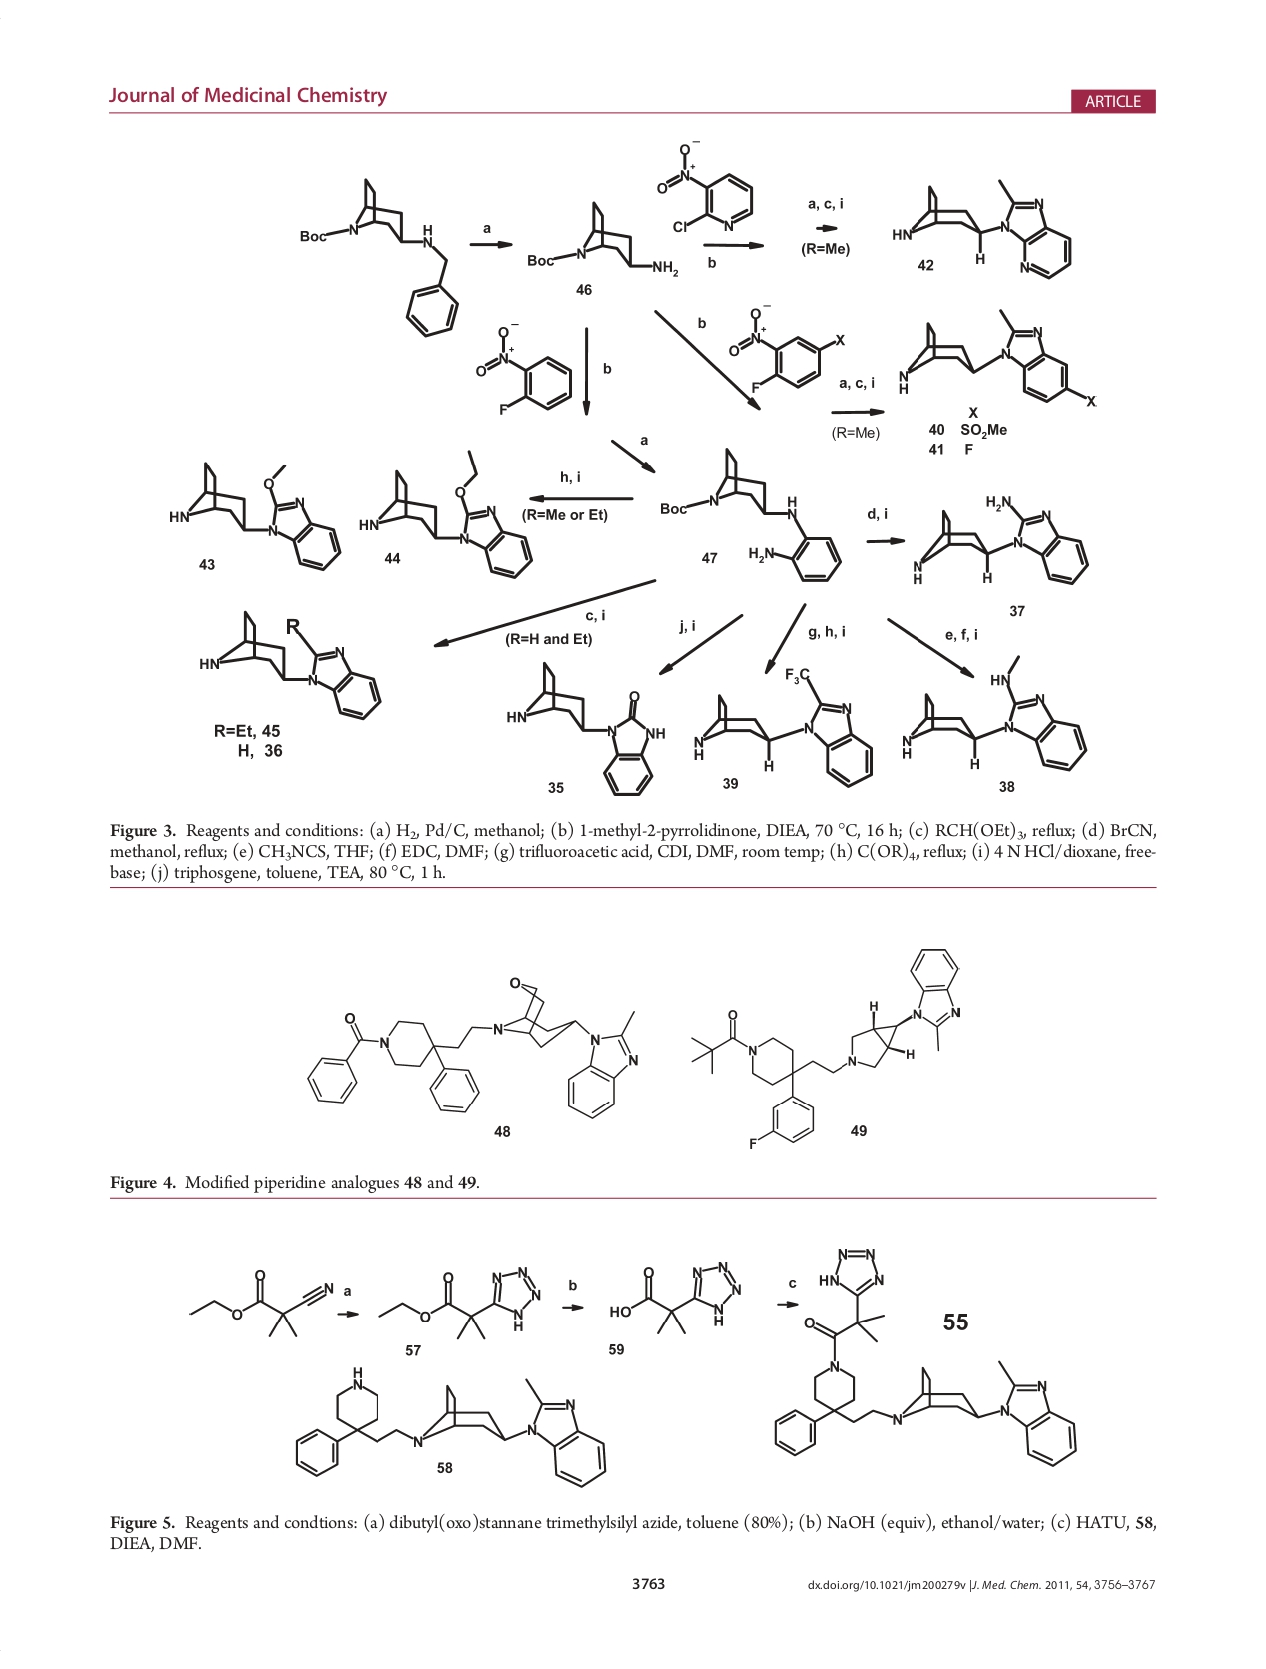exist_molecular: (773, 1246, 1077, 1468), (685, 944, 965, 1153), (301, 973, 641, 1121), (290, 1362, 609, 1489), (291, 173, 461, 342), (660, 446, 844, 585), (358, 449, 536, 582), (504, 658, 669, 798), (693, 665, 876, 790), (900, 653, 1089, 773), (165, 456, 344, 575), (894, 305, 1098, 408), (888, 170, 1073, 283), (197, 608, 382, 719), (911, 493, 1089, 586), (372, 1263, 545, 1342), (521, 198, 685, 281), (725, 299, 848, 394), (185, 1263, 335, 1338), (606, 1259, 743, 1335), (653, 134, 757, 233), (473, 321, 577, 419)
